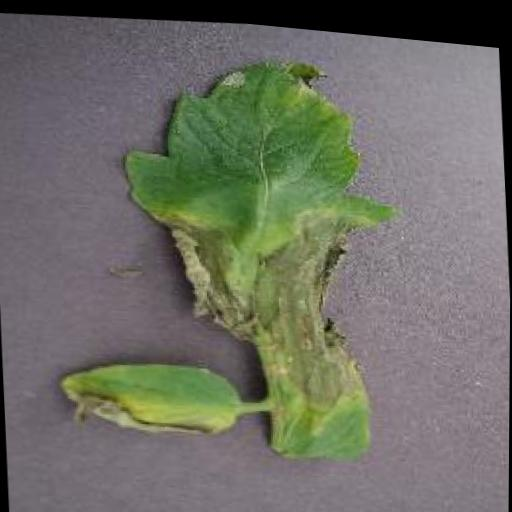Late Blight: (116, 37, 406, 473), (51, 346, 246, 447)
